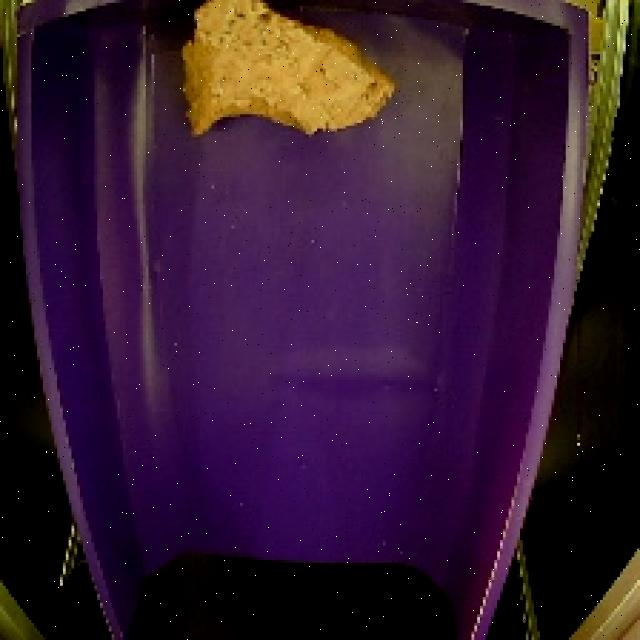brick: (170, 0, 403, 153)
